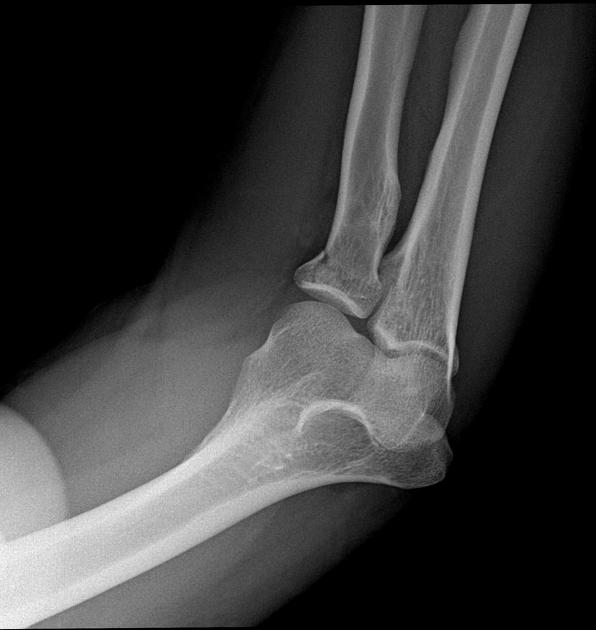fractured: (302, 249, 382, 296)
